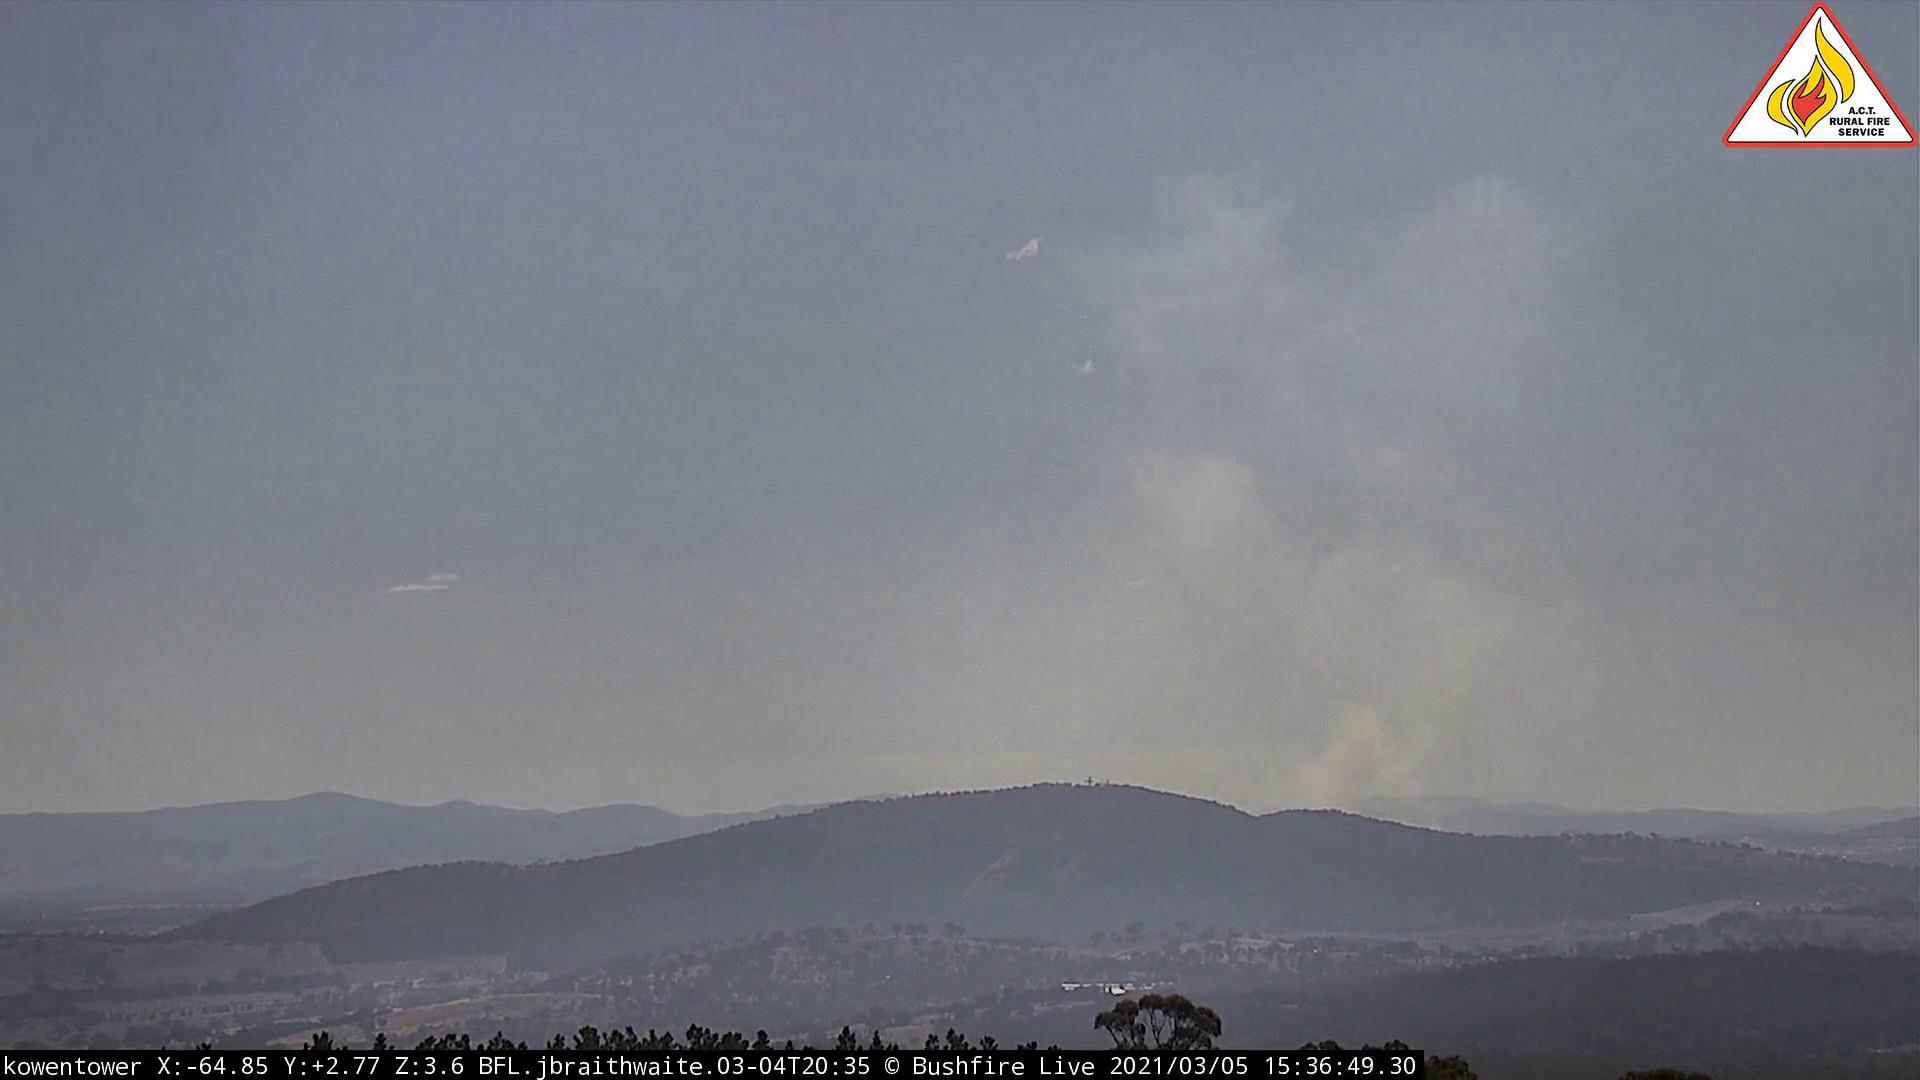Smoke: (982, 162, 1651, 881)
